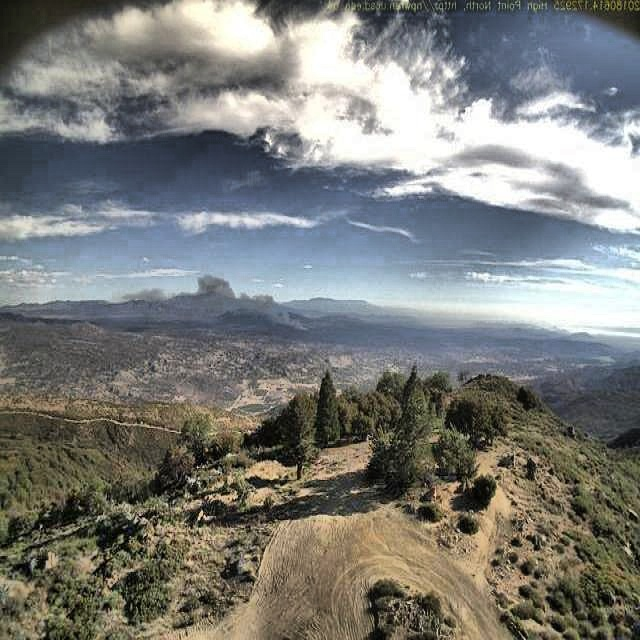smoke: (120, 270, 311, 334)
